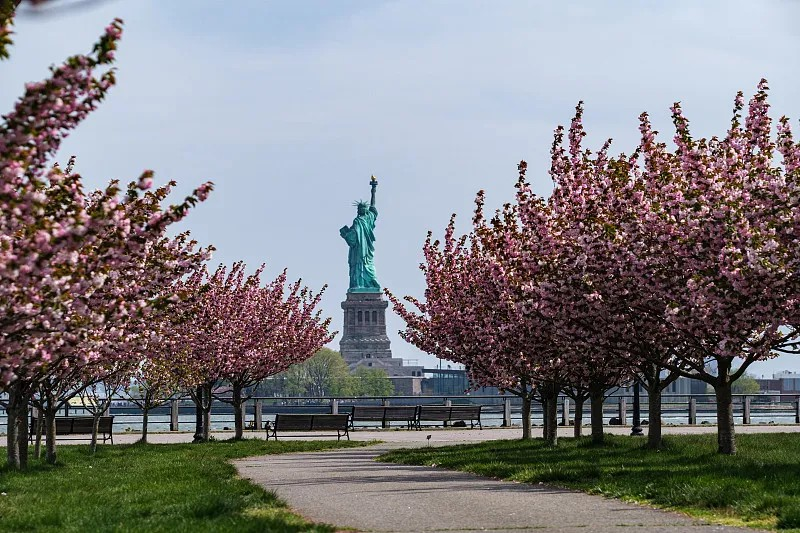SL: (339, 174, 392, 359)
